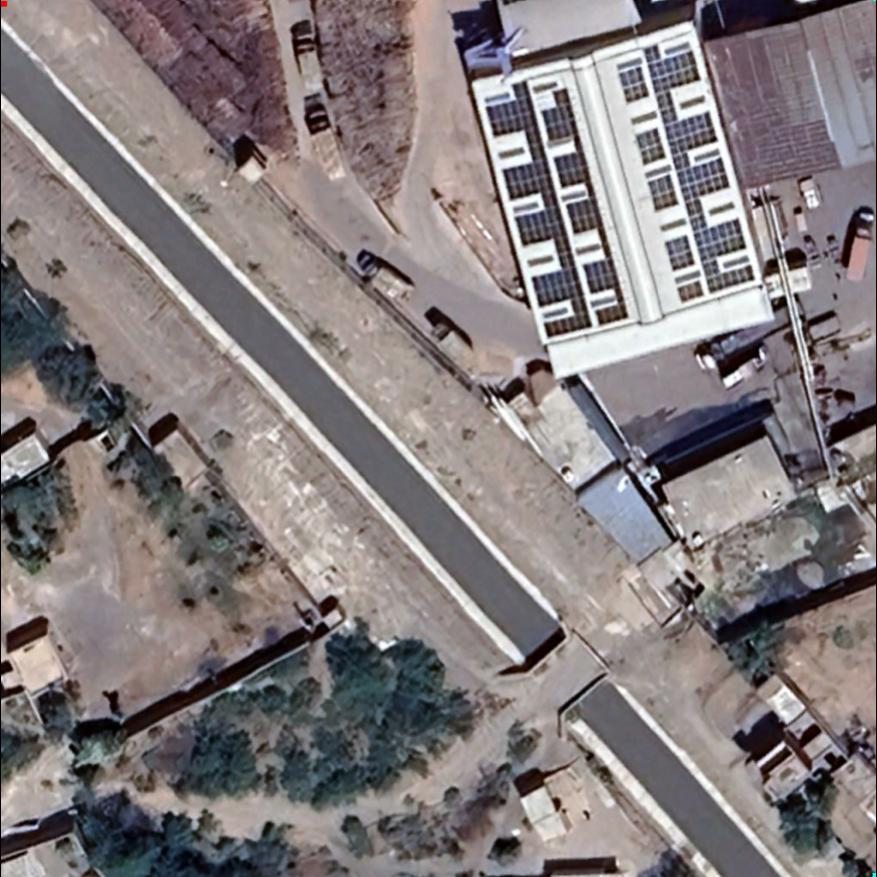Solarpanel: (473, 75, 636, 349), (612, 33, 764, 309)
